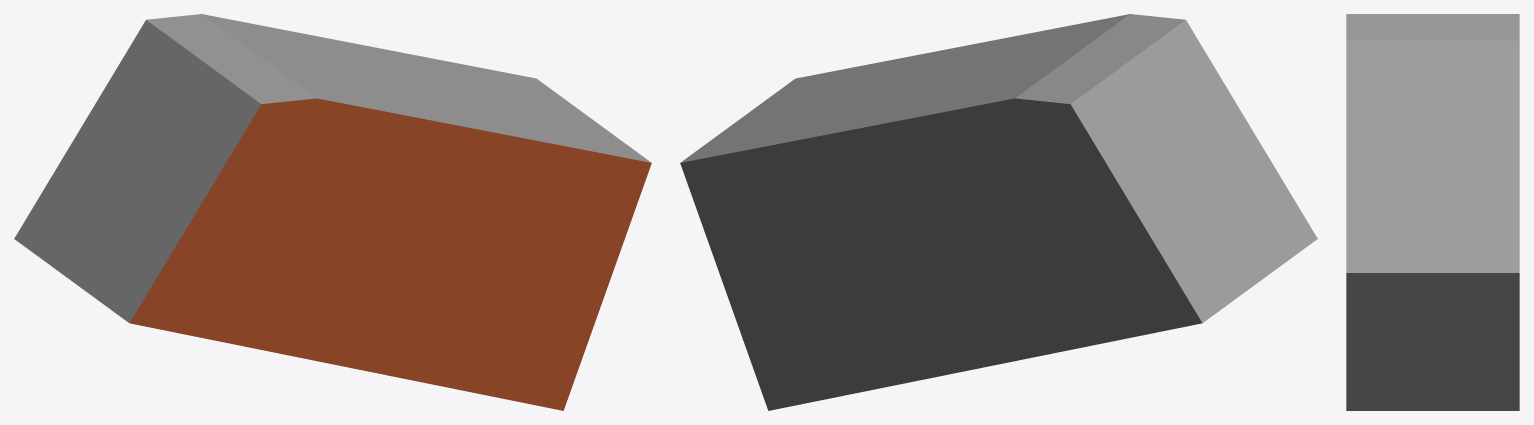
Rendered from construction_2691_assumed_A_Casa_h6m.obj.
3 renders of one model, left to right at view 1: azimuth 30°, elevation 25°; view 2: azimuth 150°, elevation 25°; view 3: azimuth 270°, elevation 25°, orthographic. The views are drawn at different scales.
Visible parts, largest first — view 1: construction_2691_assumed_A_Casa; view 2: construction_2691_assumed_A_Casa; view 3: construction_2691_assumed_A_Casa.
Part boxes in pixels (x1,y1,x2,y2): construction_2691_assumed_A_Casa: [14, 14, 651, 410]; construction_2691_assumed_A_Casa: [680, 14, 1317, 410]; construction_2691_assumed_A_Casa: [1346, 14, 1519, 410].
Size of the model in its own units: 15.69 by 10.92 by 6.
